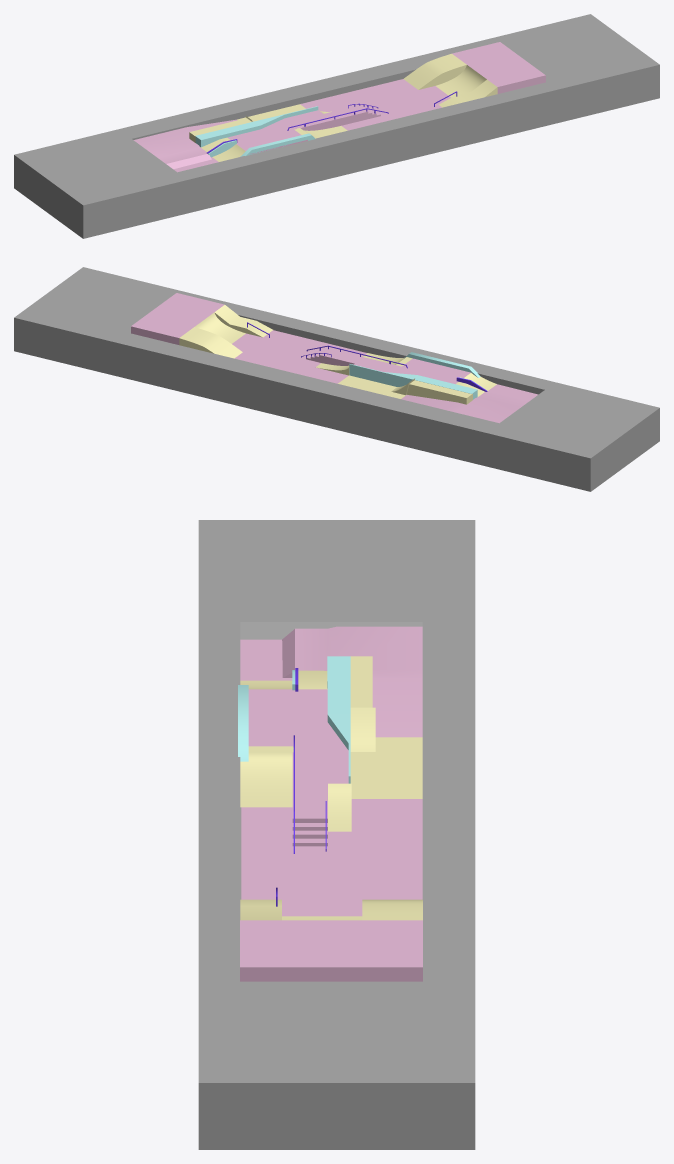
Rendered from SkateMid.fbx.
3 renders of one model, top to bottom at view 1: azimuth 30°, elevation 25°; view 2: azimuth 150°, elevation 25°; view 3: azimuth 270°, elevation 25°, orthographic. The views are drawn at different scales.
Parts seen in each view (by area): view 1: Plane, KalaPart, WhitePart, Verts, Rails; view 2: Plane, KalaPart, WhitePart, Verts, Rails; view 3: Plane, KalaPart, WhitePart, Verts.
Part boxes in pixels (box(x1,y1,x2,y2)): Plane: box(14, 14, 659, 238); KalaPart: box(133, 42, 545, 172); WhitePart: box(189, 53, 497, 161); Verts: box(195, 106, 318, 157); Rails: box(207, 91, 457, 153); Plane: box(14, 267, 659, 491); KalaPart: box(131, 293, 538, 423); WhitePart: box(179, 305, 496, 404); Verts: box(349, 352, 483, 399); Rails: box(247, 322, 487, 391); Plane: box(198, 520, 475, 1149); KalaPart: box(240, 626, 422, 981); WhitePart: box(240, 656, 422, 920); Verts: box(238, 656, 350, 783).
Bounding box in the file's own units: 90 × 6.06 × 18.72.
